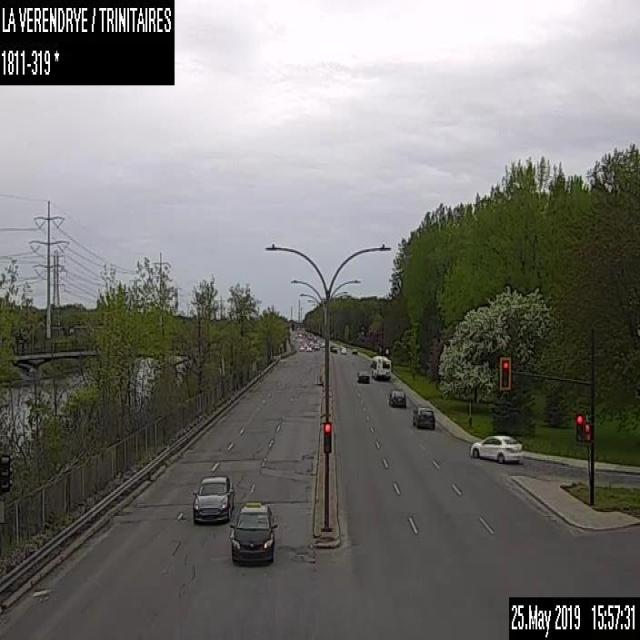bus: (370, 354, 392, 380)
vehicle: (230, 501, 276, 567), (192, 475, 234, 525), (469, 432, 525, 463), (411, 403, 436, 429), (387, 385, 408, 408), (356, 370, 369, 382), (312, 342, 320, 350), (340, 346, 346, 354), (331, 345, 337, 351), (306, 344, 311, 351), (299, 344, 304, 350), (351, 348, 357, 353), (302, 341, 307, 346)
